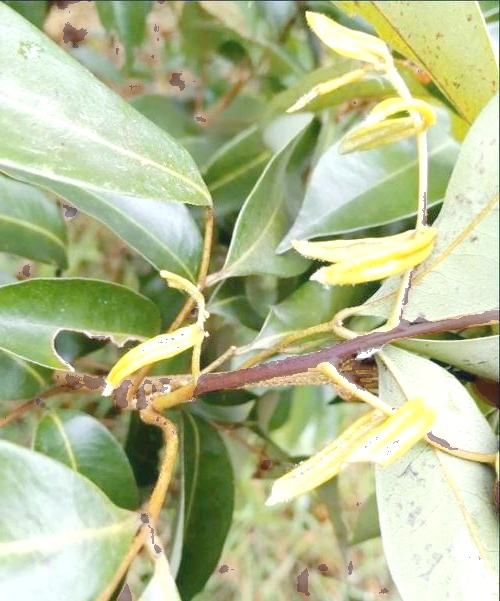Gall_Mite: (74, 278, 217, 559), (318, 13, 462, 287), (264, 351, 462, 532)
